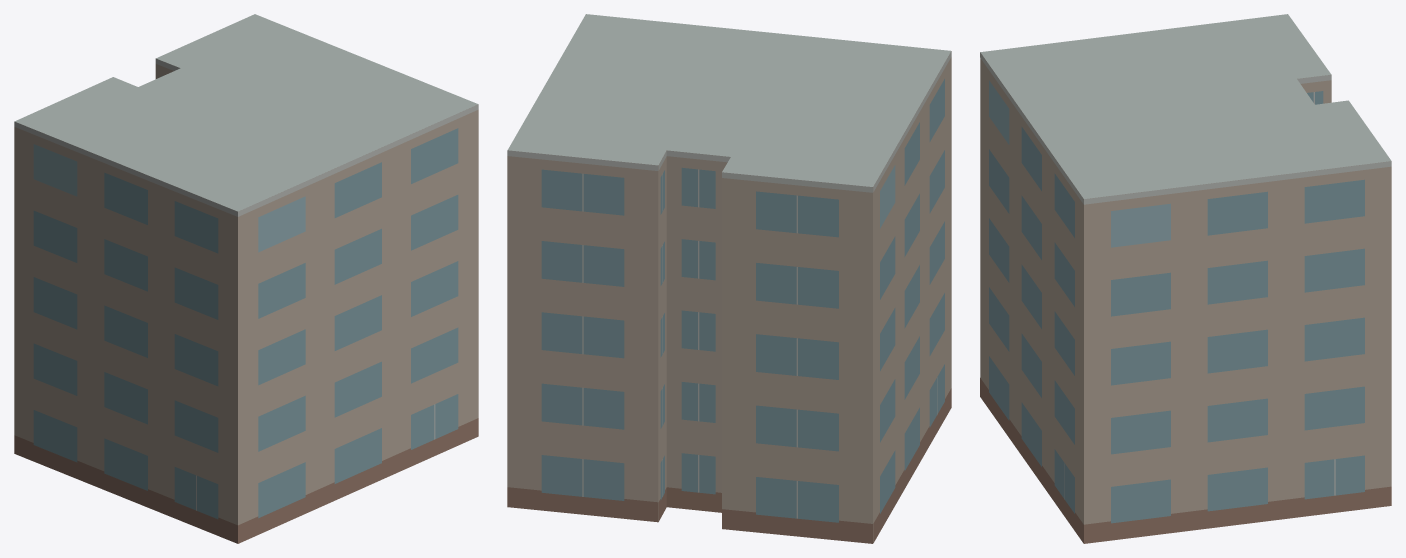
The model's file is survey-upis-32930395.glb.
3 views of the same model, side by side, from view 1: azimuth 30°, elevation 25°; view 2: azimuth 150°, elevation 25°; view 3: azimuth 270°, elevation 25° (orthographic). The views are drawn at different scales.
Visible parts, largest first — view 1: survey-upis-32930395.tmp; view 2: survey-upis-32930395.tmp; view 3: survey-upis-32930395.tmp.
Boxes of the visible parts, x1,y1,x2,y2 form: survey-upis-32930395.tmp: (14,14,478,543); survey-upis-32930395.tmp: (507,14,951,543); survey-upis-32930395.tmp: (980,14,1391,543).
Bounding box in the file's own units: 17.58 × 15.25 × 16.51.
